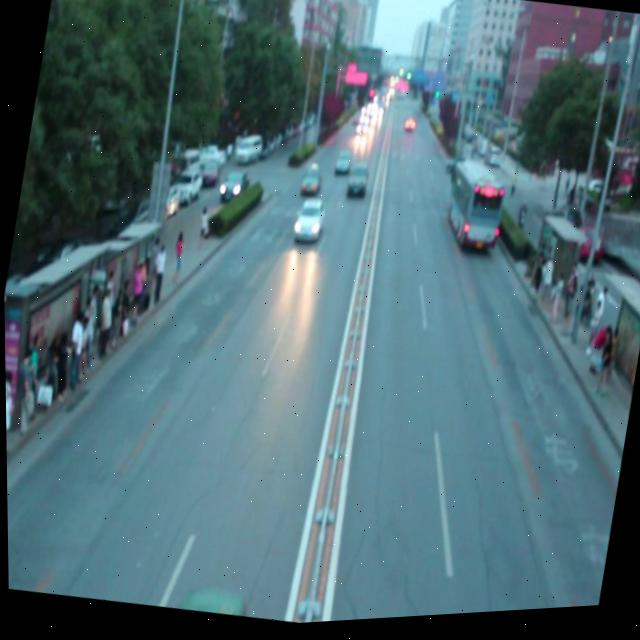car: (292, 198, 324, 248), (346, 162, 369, 198), (299, 163, 322, 195), (333, 153, 350, 177)
van: (439, 161, 508, 257)
